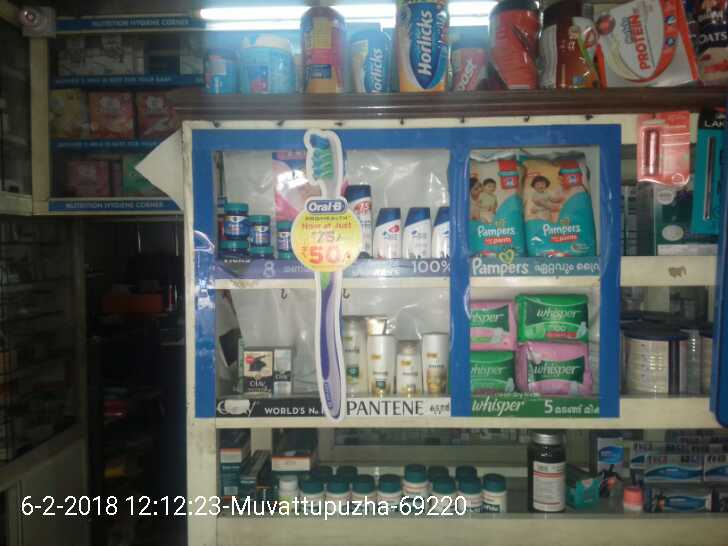vicks: (223, 199, 304, 268)
